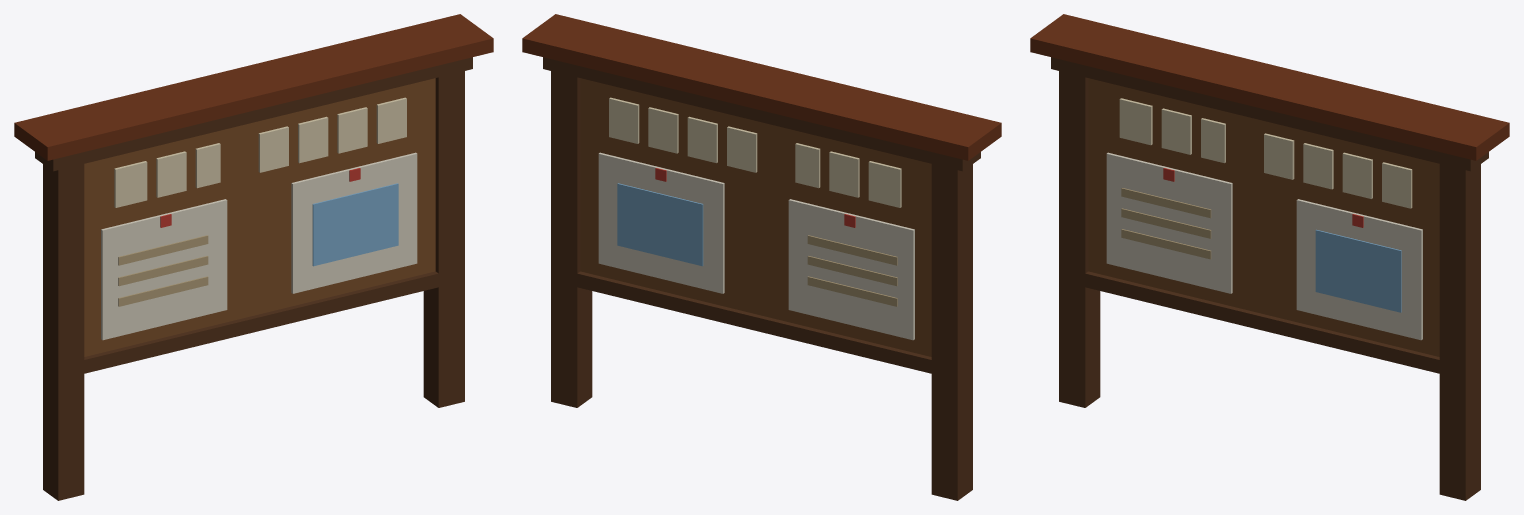
The model's file is tv-library-sign.glb.
3 views of the same model, side by side, from view 1: azimuth 30°, elevation 25°; view 2: azimuth 150°, elevation 25°; view 3: azimuth 330°, elevation 25° (orthographic).
Parts seen in each view (by area): view 1: box-prop; view 2: box-prop; view 3: box-prop.
Boxes of the visible parts, x1=… form: box-prop: x1=14, y1=14, x2=493, y2=500; box-prop: x1=522, y1=14, x2=1001, y2=500; box-prop: x1=1030, y1=14, x2=1509, y2=500.
Size of the model in its own units: 3.4 by 2.66 by 0.44.
